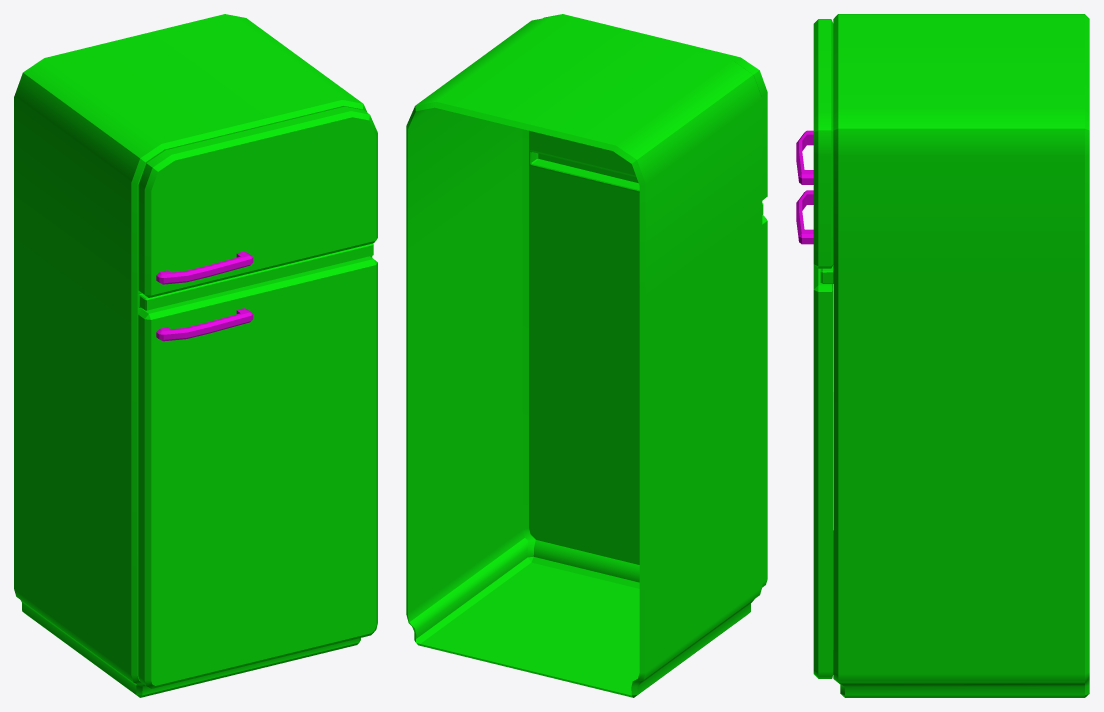
File: Kitchen_Fridge.fbx
The picture shows the model from 3 angles, left to right: view 1: azimuth 30°, elevation 25°; view 2: azimuth 150°, elevation 25°; view 3: azimuth 270°, elevation 25°; orthographic projection. The views are drawn at different scales.
Parts seen in each view (by area): view 1: SM_Fridge; view 2: SM_Fridge; view 3: SM_Fridge.
Boxes of the visible parts, <box> form: SM_Fridge: <box>14,14,377,697</box>; SM_Fridge: <box>406,14,767,697</box>; SM_Fridge: <box>796,14,1089,697</box>.
Size of the model in its own units: 100 by 219 by 100.
